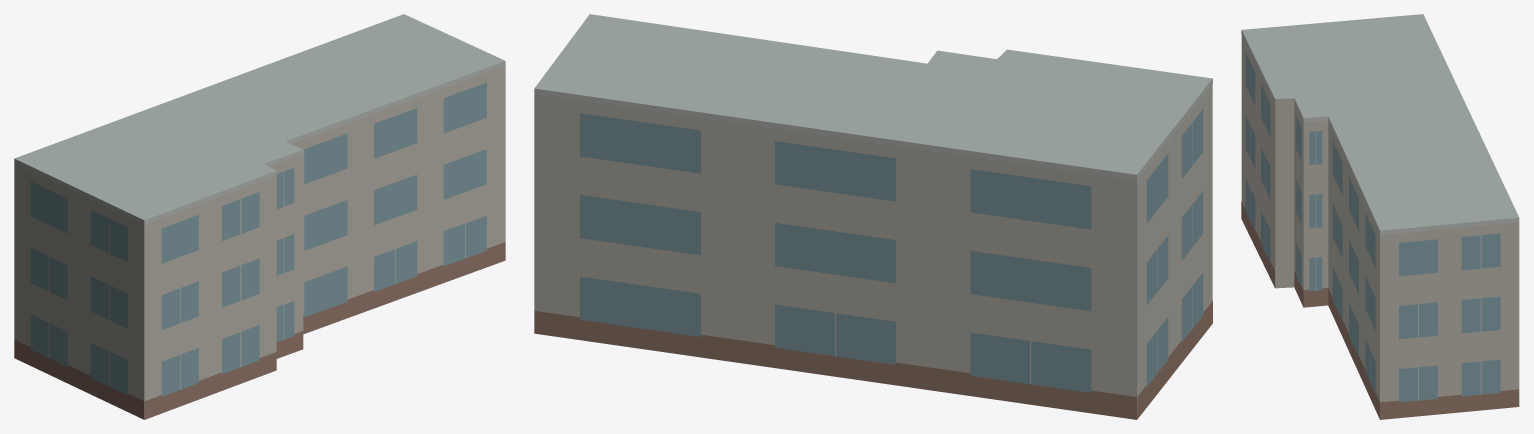
The model's file is survey-upis-32717109.glb.
3 views of the same model, side by side, from view 1: azimuth 30°, elevation 25°; view 2: azimuth 150°, elevation 25°; view 3: azimuth 270°, elevation 25° (orthographic). The views are drawn at different scales.
Parts seen in each view (by area): view 1: survey-upis-32717109.tmp; view 2: survey-upis-32717109.tmp; view 3: survey-upis-32717109.tmp.
Boxes of the visible parts, x1=… form: survey-upis-32717109.tmp: x1=14, y1=14, x2=505, y2=419; survey-upis-32717109.tmp: x1=534, y1=14, x2=1212, y2=419; survey-upis-32717109.tmp: x1=1241, y1=14, x2=1519, y2=419.
Size of the model in its own units: 25.56 by 10.4 by 13.85.
